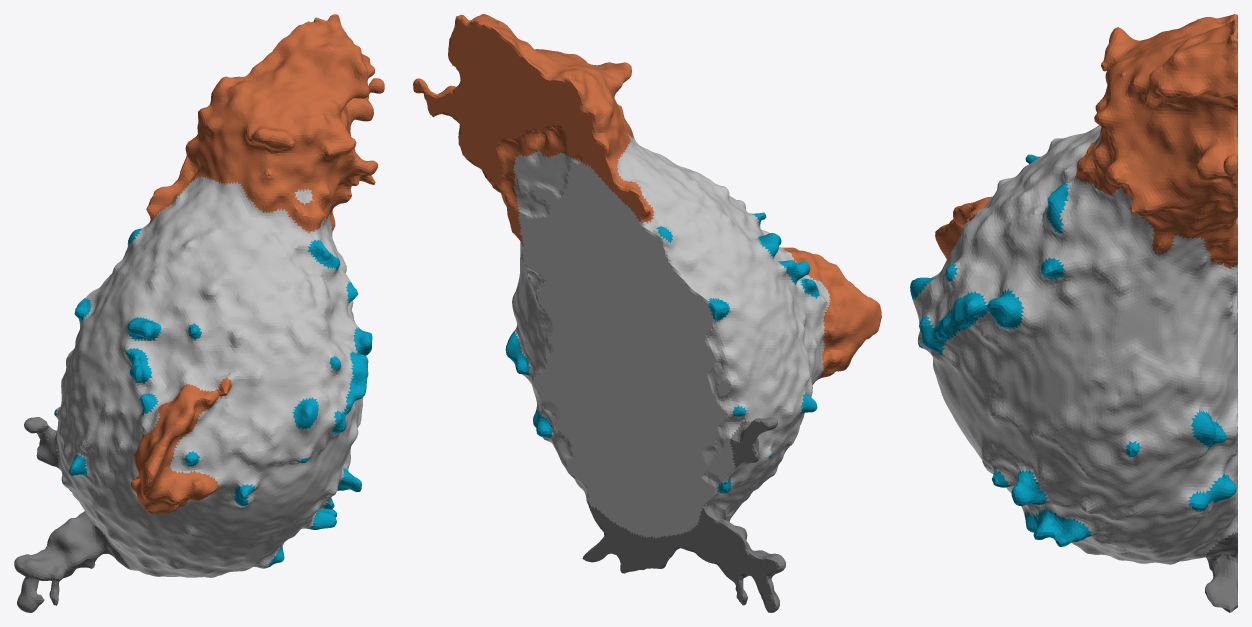
3 renders of one model, left to right at view 1: azimuth 30°, elevation 25°; view 2: azimuth 150°, elevation 25°; view 3: azimuth 270°, elevation 25°, orthographic. The views are drawn at different scales.
Bounding box in the file's own units: 118 × 160 × 71.64.
